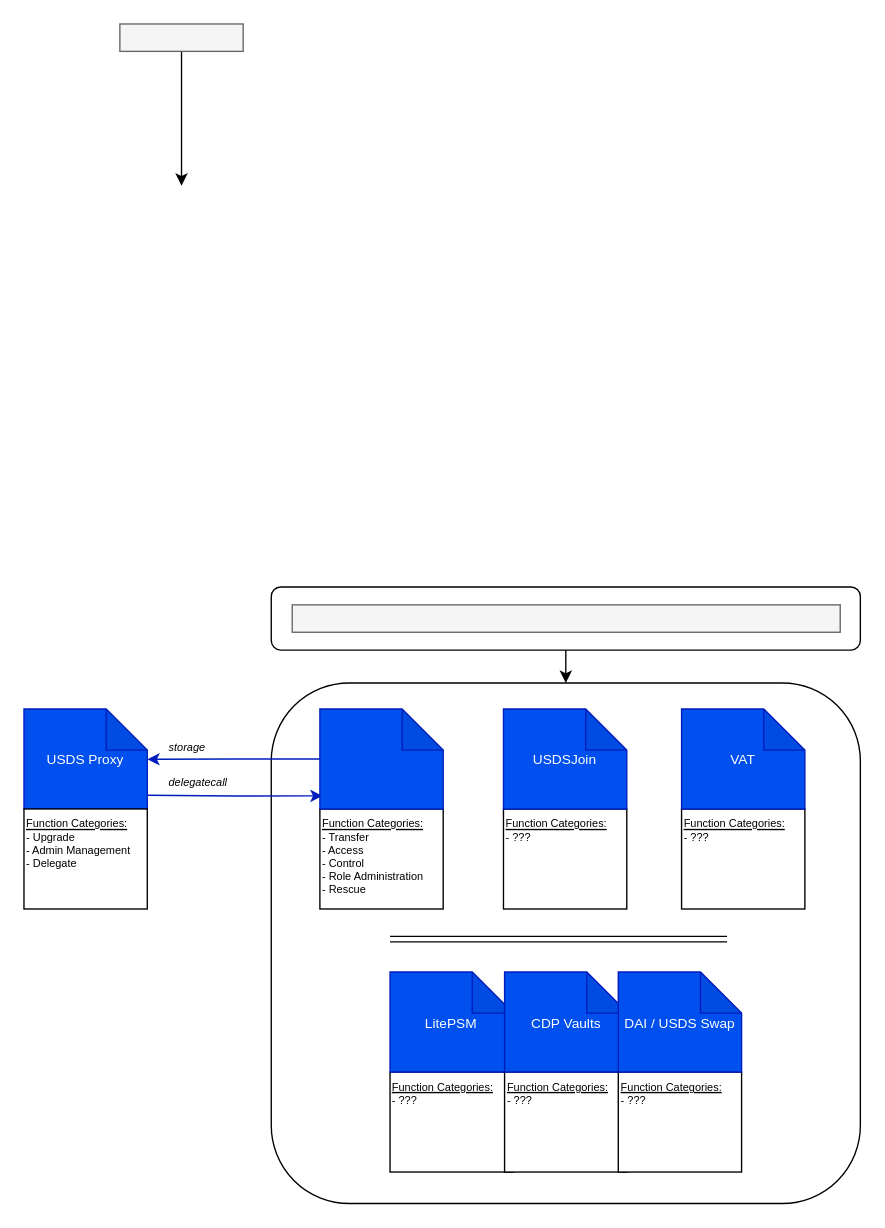
Image size: 885x1228. Some labels were removed from this diagram. The shapes that lost their labels are listed below. From the top down, each one's centre as x and y in pixels, then its label:
At (x=181, y=37): "Proxy Administrator".
At (x=565, y=617): "Sky Governance".
At (x=381, y=758): "USDS Implementation".
